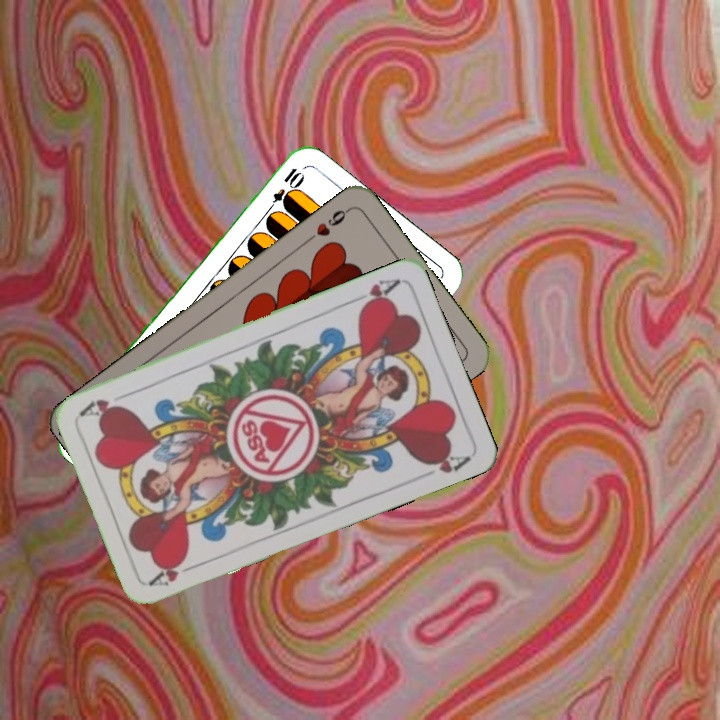E10: (262, 163, 305, 217)
H9: (302, 204, 353, 245)
HA: (346, 274, 402, 313), (146, 553, 203, 590)
